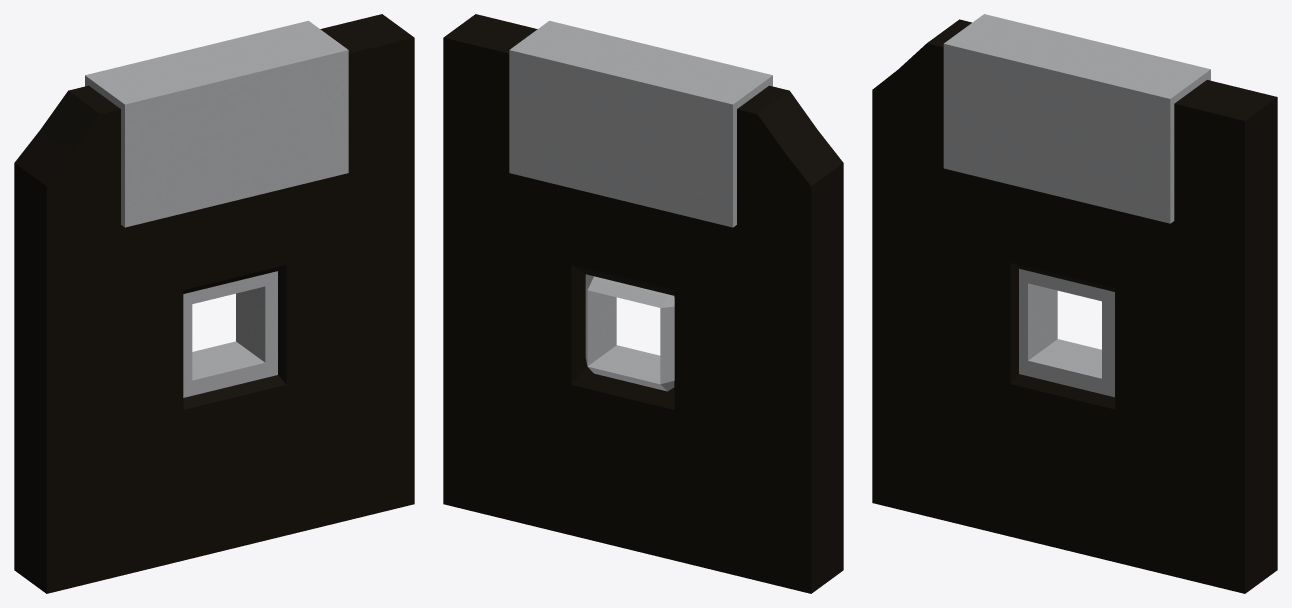
The model's file is FloppyDIsk.fbx.
The picture shows the model from 3 angles, left to right: view 1: azimuth 30°, elevation 25°; view 2: azimuth 150°, elevation 25°; view 3: azimuth 330°, elevation 25°; orthographic projection.
Visible parts, largest first — view 1: Cube, Cube.004; view 2: Cube, Cube.004; view 3: Cube, Cube.004.
Boxes of the visible parts, x1,y1,x2,y2 form: Cube: [14, 14, 414, 593]; Cube.004: [85, 20, 348, 397]; Cube: [443, 14, 843, 593]; Cube.004: [509, 20, 772, 391]; Cube: [872, 19, 1277, 593]; Cube.004: [943, 14, 1210, 397].
Size of the model in its own units: 82.31 by 101 by 15.51.
